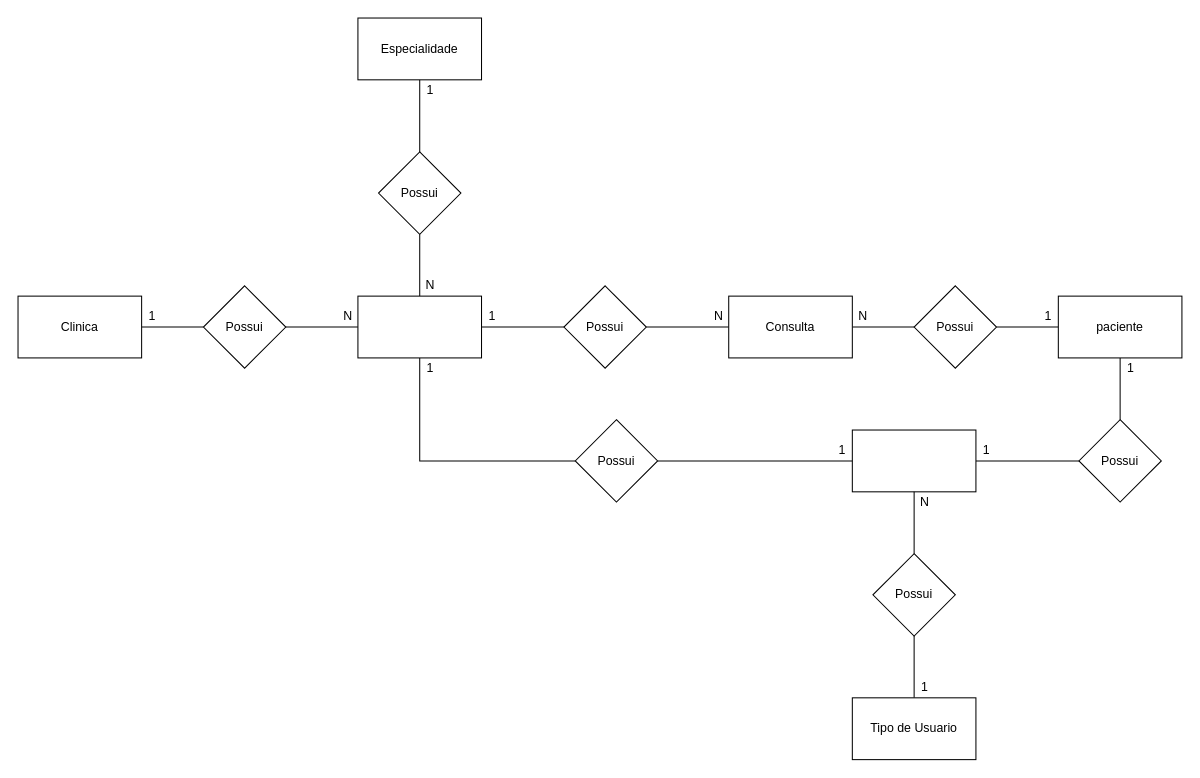
Image size: 1200x778. Some labels were removed from this diagram. Here are the shapes that lost their labels. From the top down, the centre of each, then its label:
At point (419, 326): "Medico".
At point (913, 460): "Usuario".
